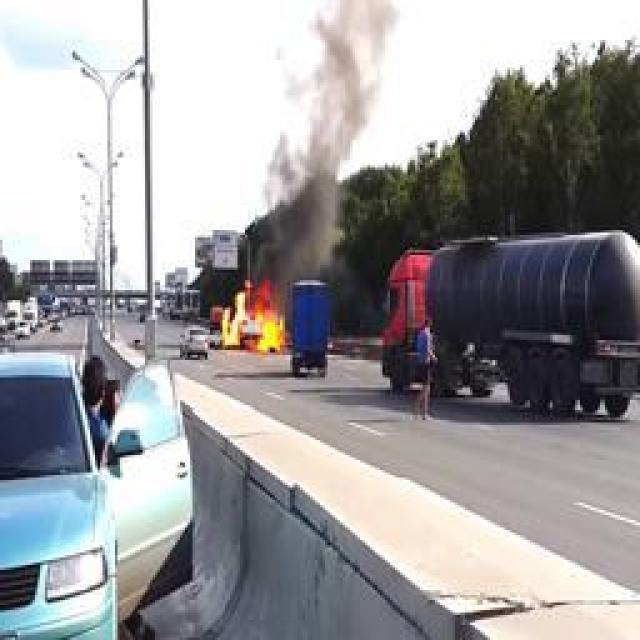Fire: (224, 280, 286, 352)
